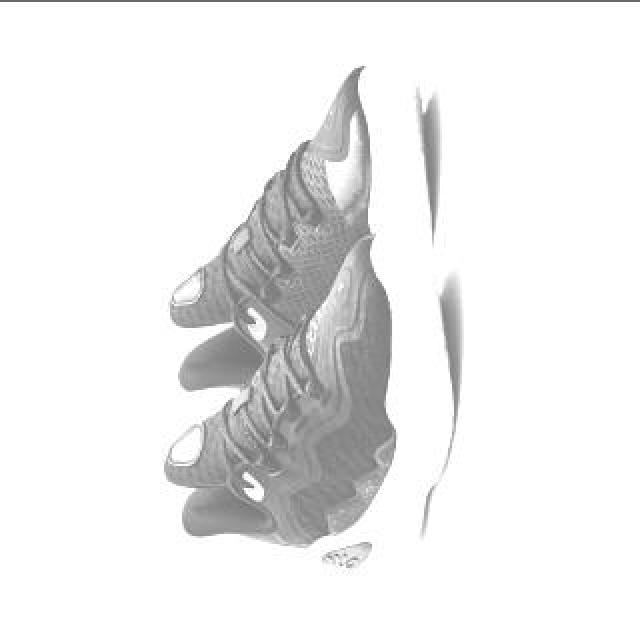shoe: (163, 227, 455, 581), (168, 61, 432, 419)
